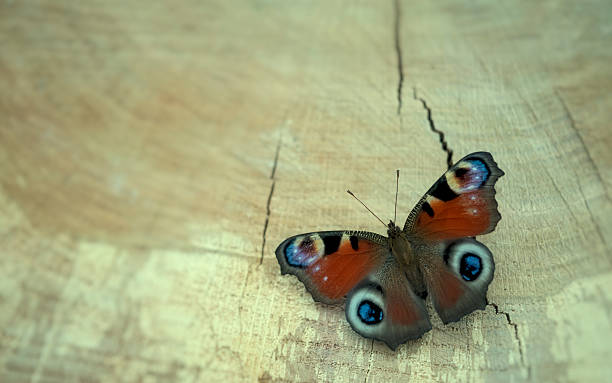Butterfly: (274, 150, 507, 352)
